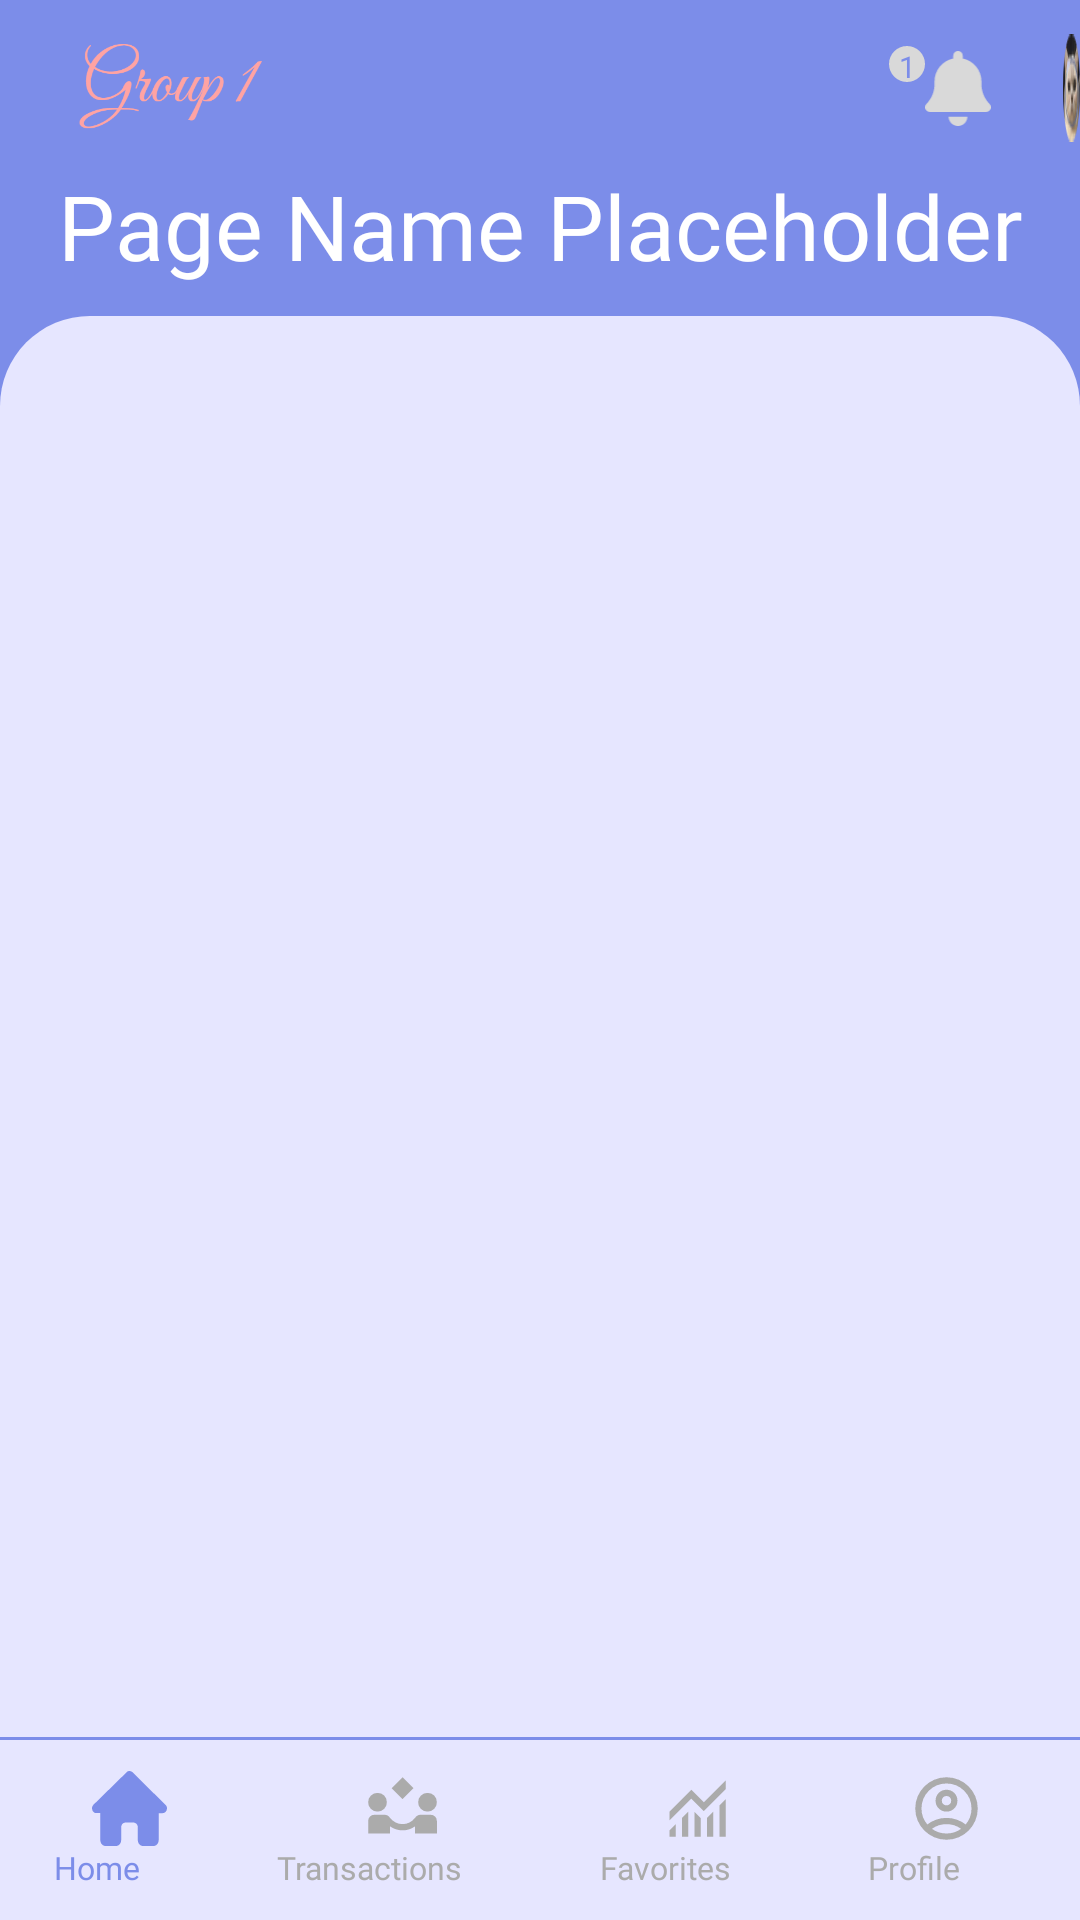

Icon bounding boxes for this 1080w x 1920h phone screenshot, format (x1, y1, x2, y2):
notify: (925, 51, 991, 126)
